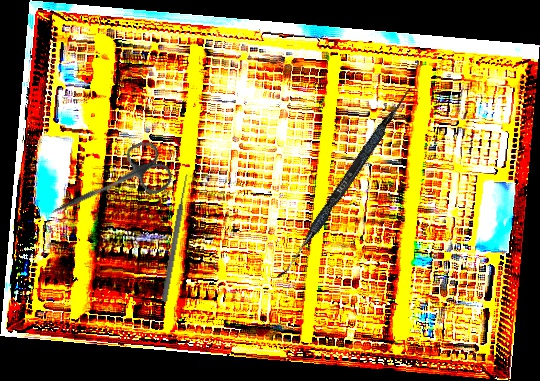Iris Scissors: (40, 136, 177, 239)
Pusher: (160, 173, 191, 303)
Spatula Surgical: (276, 83, 414, 284)
